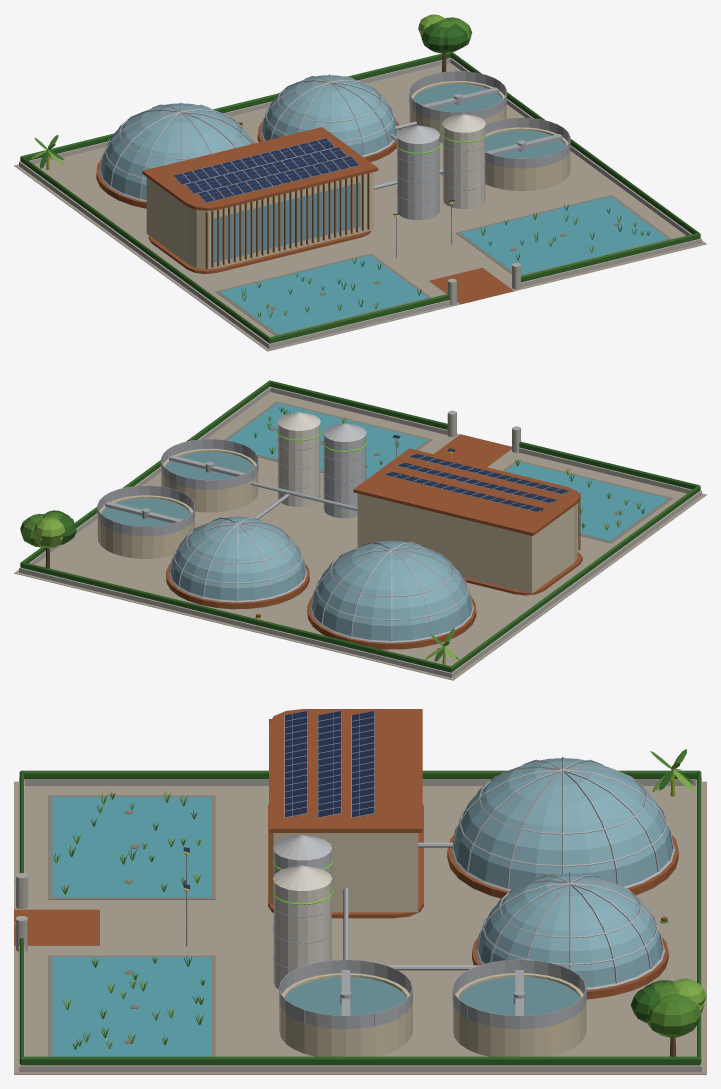
The model's file is water_works.glb.
The picture shows the model from 3 angles, top to bottom: view 1: azimuth 30°, elevation 25°; view 2: azimuth 150°, elevation 25°; view 3: azimuth 270°, elevation 25°; orthographic projection. The views are drawn at different scales.
Visible parts, largest first — view 1: body; view 2: body; view 3: body.
Part boxes in pixels (left/top/right/bottom): body: left=14, top=14, right=706, bottom=351; body: left=14, top=380, right=706, bottom=680; body: left=14, top=709, right=706, bottom=1074.
Size of the model in its own units: 48.24 by 9.21 by 47.9.
